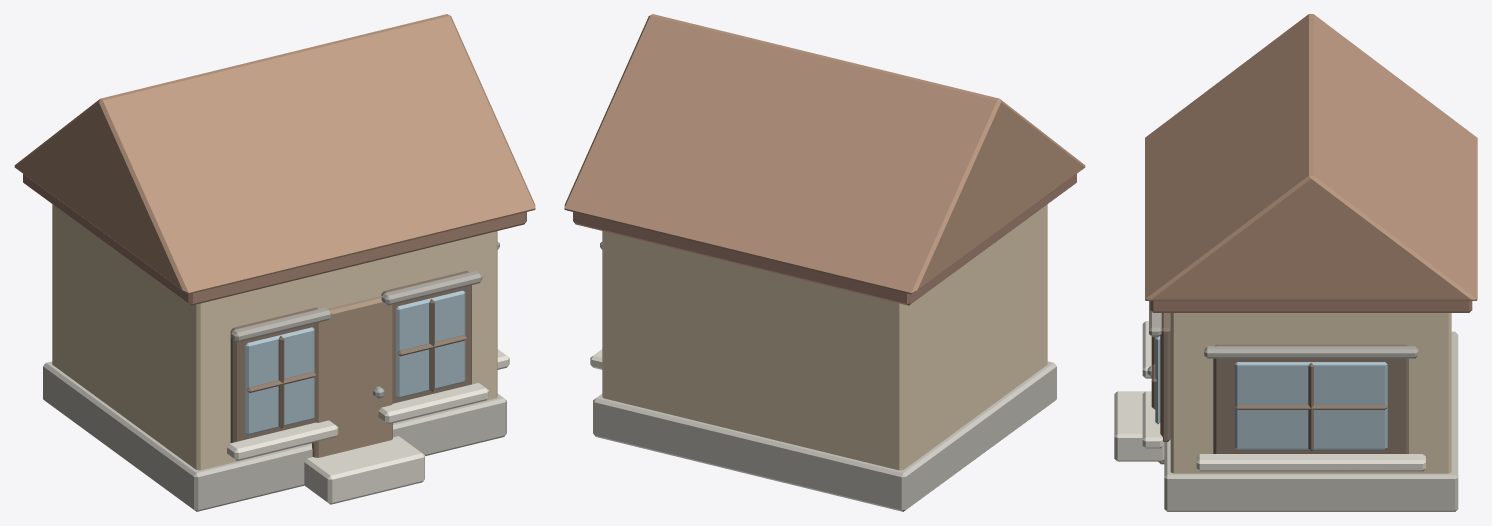
The model's file is house_wood_b.glb.
3 renders of one model, left to right at view 1: azimuth 30°, elevation 25°; view 2: azimuth 150°, elevation 25°; view 3: azimuth 270°, elevation 25°, orthographic. The views are drawn at different scales.
Visible parts, largest first — view 1: roof, wall, skirt, dframe, eave, wglass.001, wglass, step, wframe, wsill, wsill.001, wframe.001 (+3 smaller); view 2: roof, wall, skirt, eave; view 3: roof, wall, skirt, wglass.002, wframe.002, wsill.002, eave, wlintel.002, step, wframe.001, wbar_h.002, wsill.001 (+3 smaller).
Boxes of the visible parts, box(x1,y1,x2,y2) form: roof: box(14, 14, 535, 294); wall: box(52, 204, 497, 470); skirt: box(43, 361, 506, 511); dframe: box(312, 295, 392, 457); eave: box(23, 174, 526, 305); wglass.001: box(396, 290, 465, 398); wglass: box(245, 327, 314, 434); step: box(304, 436, 424, 504); wframe: box(230, 307, 318, 442); wsill: box(227, 420, 338, 460); wsill.001: box(378, 383, 488, 424); wframe.001: box(381, 271, 471, 403); roof: box(564, 14, 1085, 294); wall: box(602, 204, 1047, 470); skirt: box(593, 361, 1056, 511); eave: box(573, 174, 1076, 305); roof: box(1145, 14, 1477, 300); wall: box(1170, 313, 1451, 473); skirt: box(1164, 331, 1458, 511); wglass.002: box(1234, 362, 1387, 449); wframe.002: box(1213, 344, 1408, 453); wsill.002: box(1196, 454, 1425, 471); eave: box(1150, 301, 1472, 312); wlintel.002: box(1204, 346, 1418, 358); step: box(1114, 391, 1164, 461); wframe.001: box(1160, 313, 1170, 441); wbar_h.002: box(1234, 404, 1387, 409); wsill.001: box(1142, 391, 1162, 448).
Bounding box in the file's own units: 1.52 × 1.52 × 1.42.
